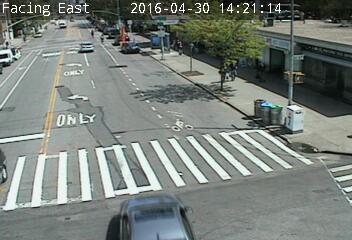neg: (285, 88, 298, 105), (125, 62, 138, 78), (35, 74, 45, 88), (95, 32, 105, 45), (45, 36, 55, 49), (102, 5, 111, 16), (88, 29, 96, 41), (261, 14, 269, 24), (62, 53, 68, 61), (152, 78, 158, 86), (184, 115, 190, 123), (259, 151, 265, 159), (96, 66, 102, 73), (233, 17, 238, 24), (161, 129, 166, 136), (72, 95, 76, 100), (106, 105, 109, 110)
pos: (166, 38, 189, 68), (226, 58, 243, 80), (3, 38, 11, 49)
